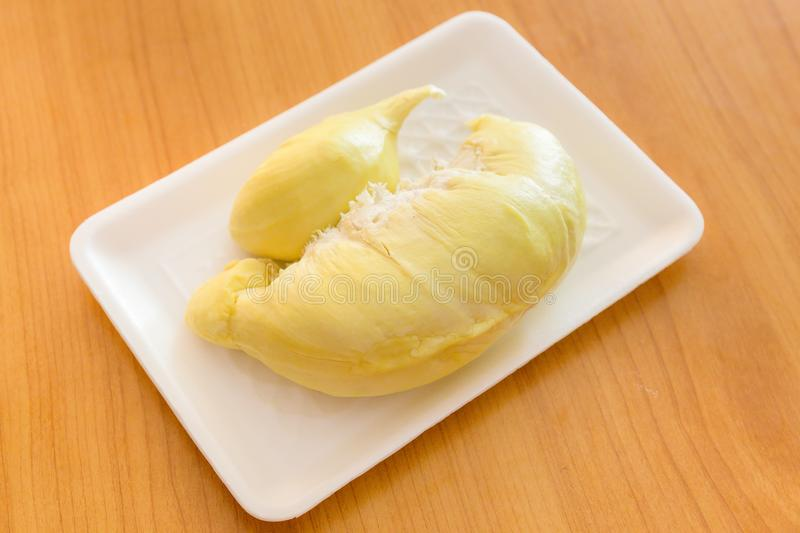Foam Box: (64, 4, 710, 526)
